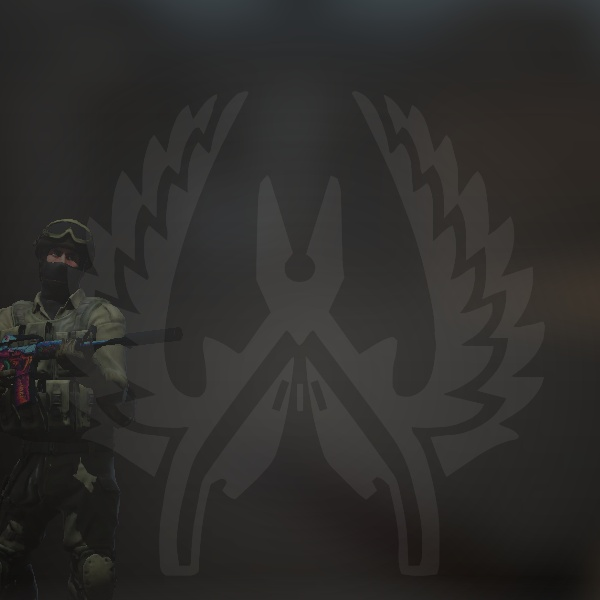ct_body: (10, 192, 186, 600)
ct_head: (18, 219, 105, 306)
